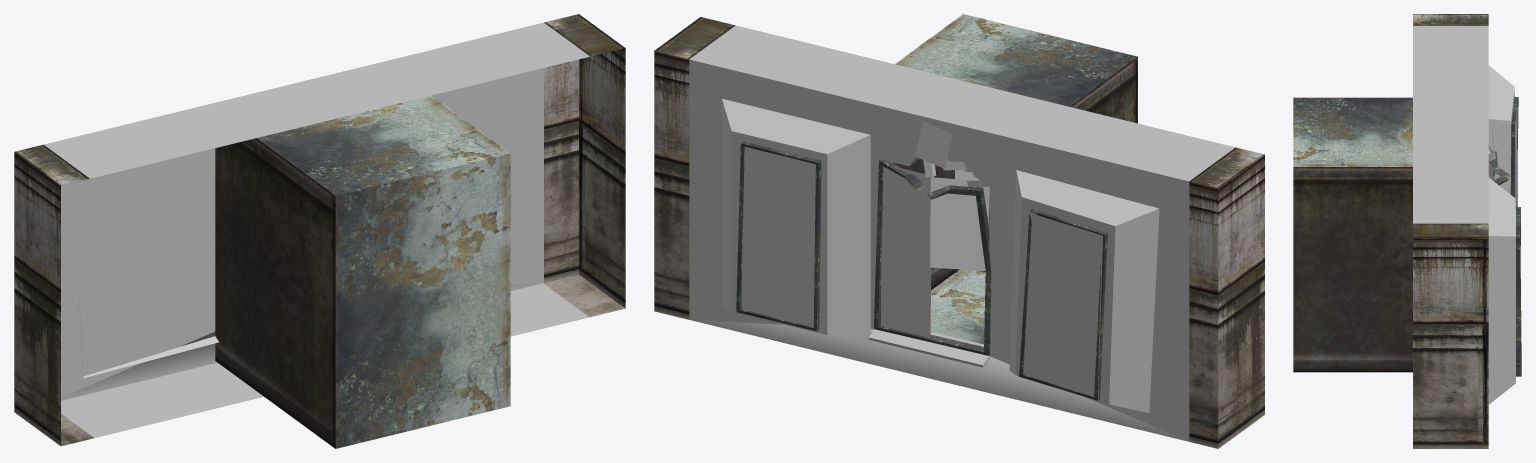
The model's file is Store_front_11_E.fbx.
3 views of the same model, side by side, from view 1: azimuth 30°, elevation 25°; view 2: azimuth 150°, elevation 25°; view 3: azimuth 270°, elevation 25° (orthographic). The views are drawn at different scales.
Visible parts, largest first — view 1: Store_front_11_E; view 2: Store_front_11_E; view 3: Store_front_11_E.
Part boxes in pixels (box(x1,y1,x2,y2)): Store_front_11_E: box(14, 14, 625, 448); Store_front_11_E: box(654, 14, 1264, 448); Store_front_11_E: box(1293, 14, 1521, 448).
Bounding box in the file's own units: 700 × 309 × 302.
